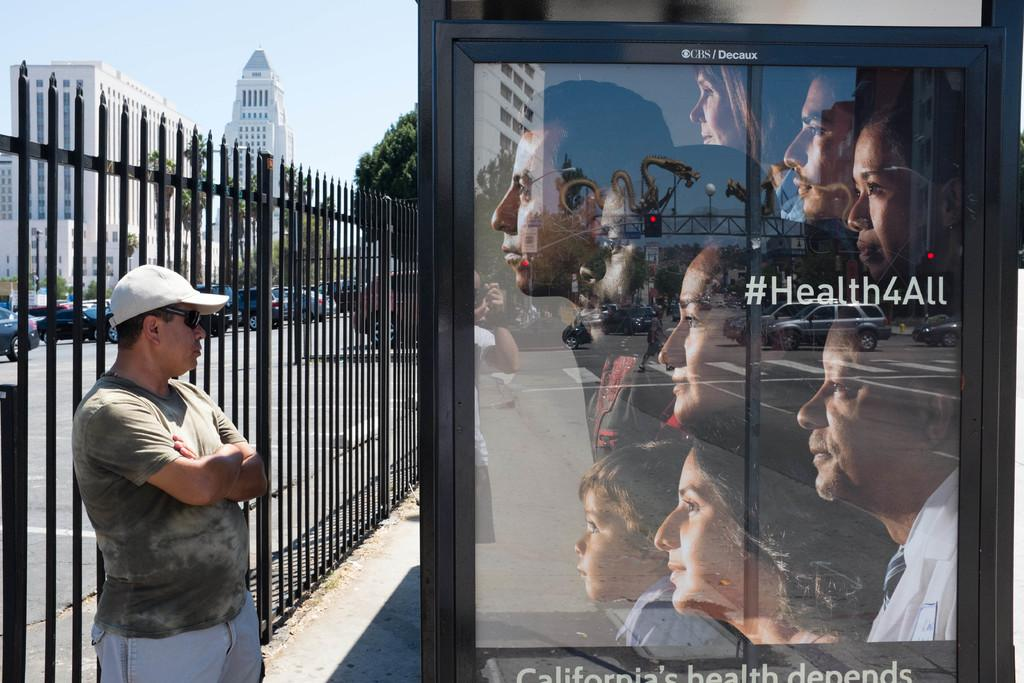Hat: (110, 259, 236, 330)
